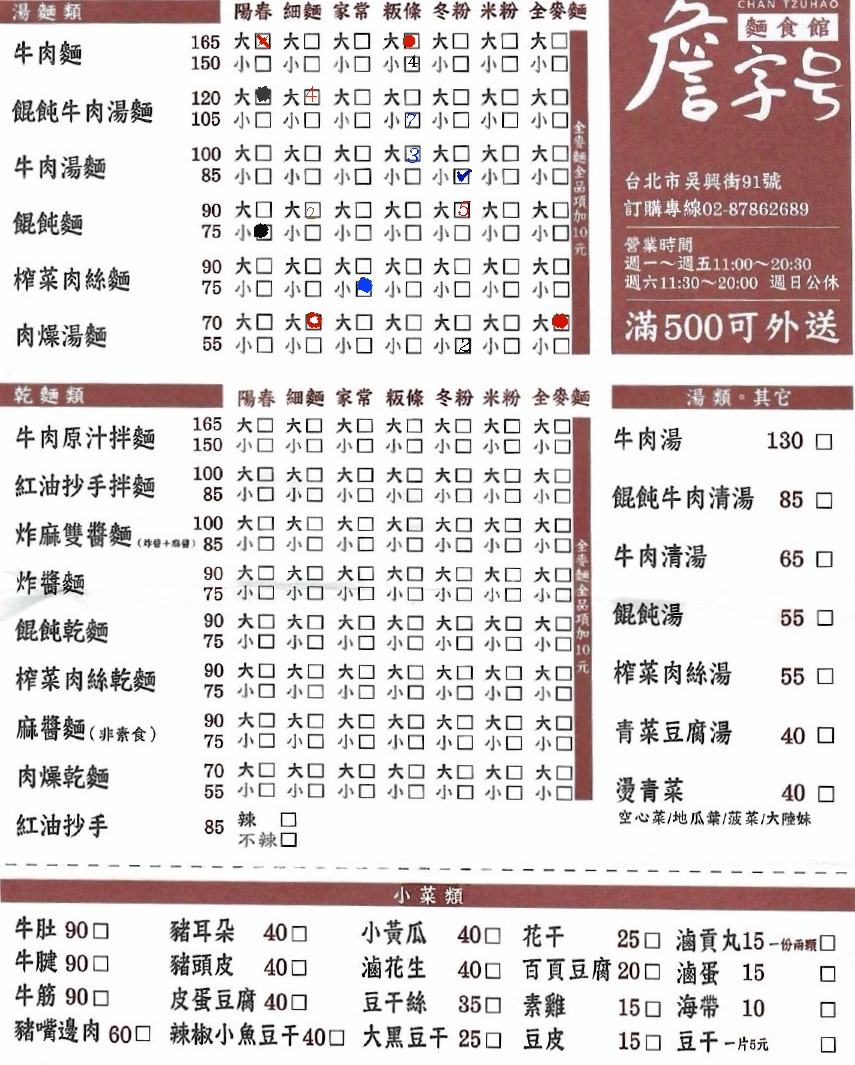marked_circle: (552, 313, 570, 330), (253, 223, 271, 240), (354, 278, 372, 295), (253, 87, 271, 104), (403, 32, 418, 48)
marked_hollow: (304, 313, 322, 330)
marked_number_2: (453, 336, 471, 353), (303, 200, 319, 218)
marked_number_3: (403, 144, 421, 161)
marked_number_4: (302, 87, 320, 104), (404, 55, 419, 70)
marked_number_5: (453, 199, 471, 216)
marked_number_7: (404, 112, 420, 127)
marked_tick: (453, 166, 471, 183)
marked_x: (255, 33, 270, 48)
